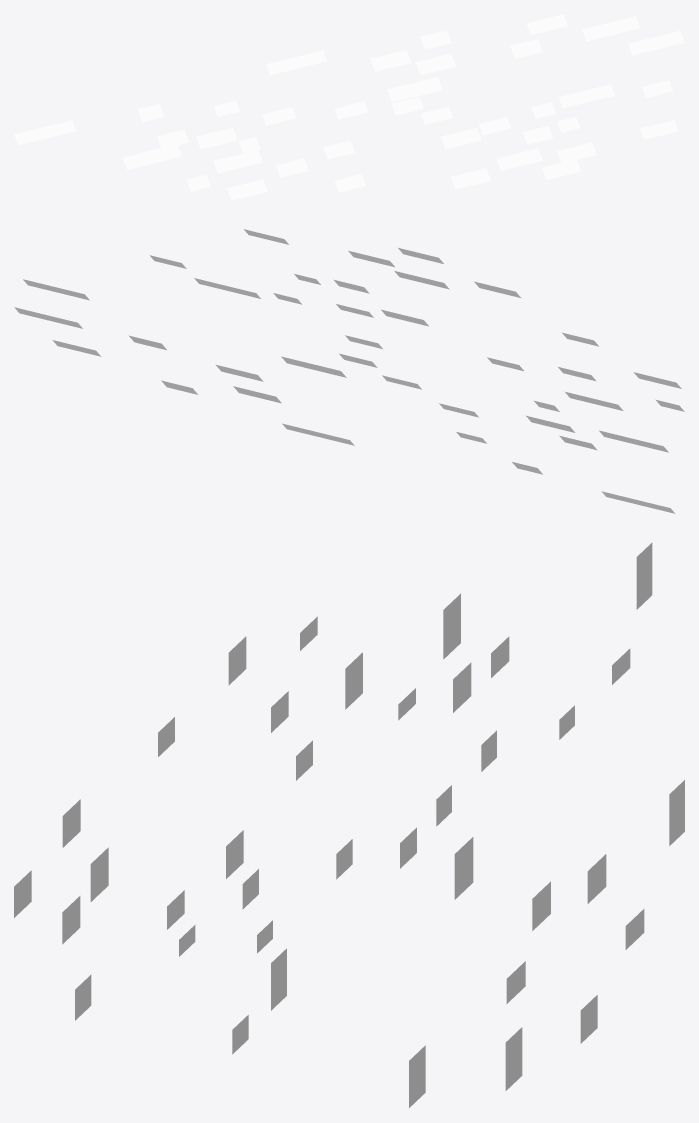
File: 1changjing_kuang.FBX
The picture shows the model from 3 angles, top to bottom: view 1: azimuth 30°, elevation 25°; view 2: azimuth 150°, elevation 25°; view 3: azimuth 270°, elevation 25°; orthographic projection. The views are drawn at different scales.
Parts seen in each view (by area): view 1: mozi010, chengzi007, hongzi005, huangzi005, hongzi006, huangzi004, qingzi011, mozi014, lvzi010, lanzi004, chengzi009, chengzi008 (+21 smaller); view 2: no part large enough to name; view 3: chengzi007, hongzi005, mozi010, huangzi005, hongzi006.
Boxes of the visible parts, bbox=[...] form: mozi010: bbox=[122, 144, 181, 169]; chengzi007: bbox=[387, 77, 442, 102]; hongzi005: bbox=[14, 120, 76, 145]; huangzi005: bbox=[582, 16, 639, 41]; hongzi006: bbox=[266, 50, 327, 75]; huangzi004: bbox=[628, 31, 684, 55]; qingzi011: bbox=[558, 84, 614, 108]; mozi014: bbox=[213, 150, 262, 173]; lvzi010: bbox=[496, 148, 542, 170]; lanzi004: bbox=[196, 128, 237, 149]; chengzi009: bbox=[370, 50, 411, 71]; chengzi008: bbox=[415, 53, 455, 75]; chengzi007: bbox=[454, 837, 473, 899]; hongzi005: bbox=[636, 542, 652, 609]; mozi010: bbox=[443, 593, 460, 659]; huangzi005: bbox=[505, 1027, 522, 1090]; hongzi006: bbox=[669, 780, 684, 845].
Bounding box in the file's own units: 6065 × 90.78 × 3122.
Materials: 1 (1 with a texture image).
